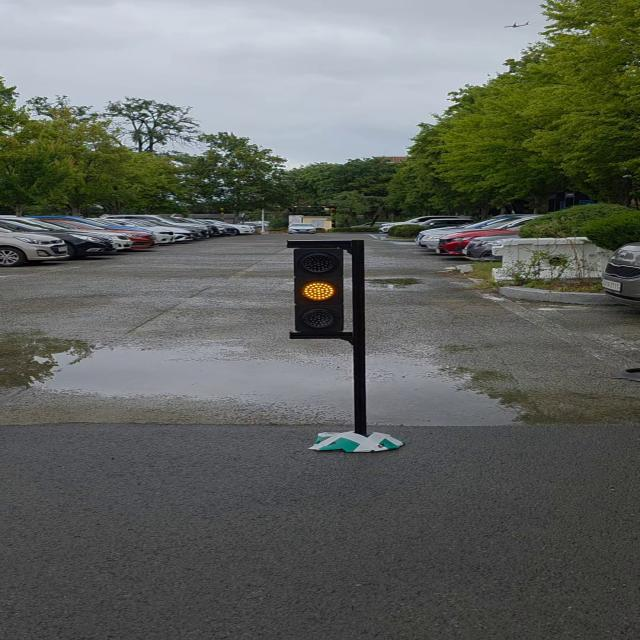yellow: (290, 242, 347, 336)
